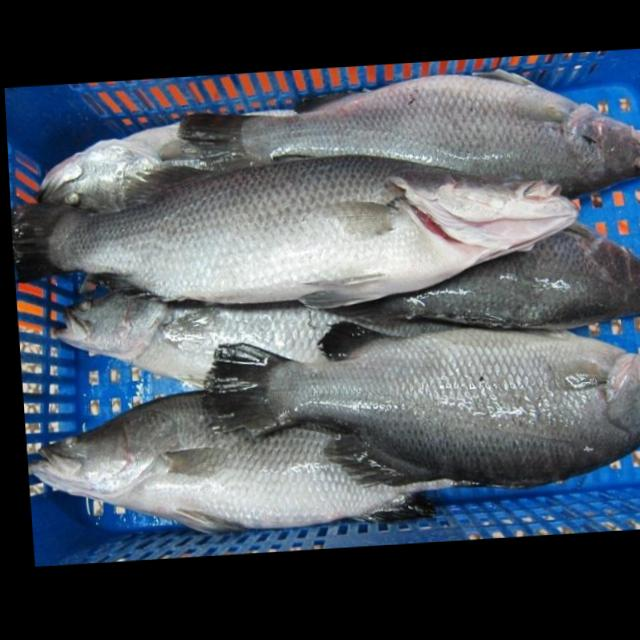Seabass: (8, 134, 580, 322), (22, 367, 486, 547), (200, 314, 640, 503), (173, 52, 640, 219), (339, 220, 640, 332)
